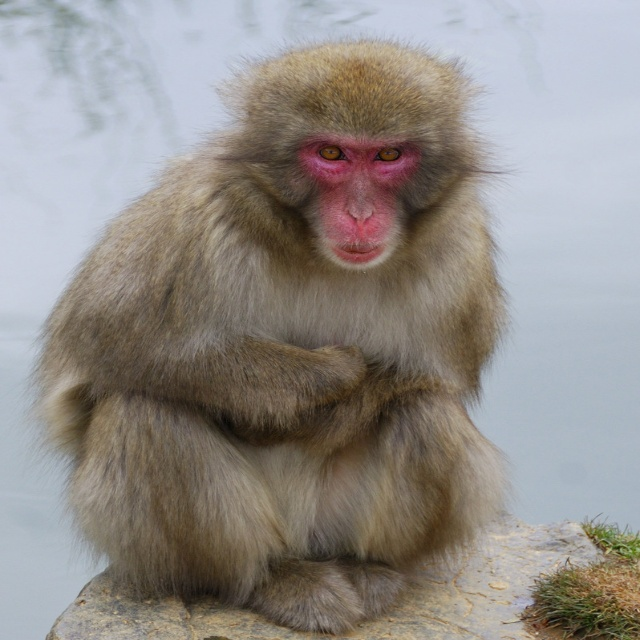Monkey: (32, 36, 513, 633)
